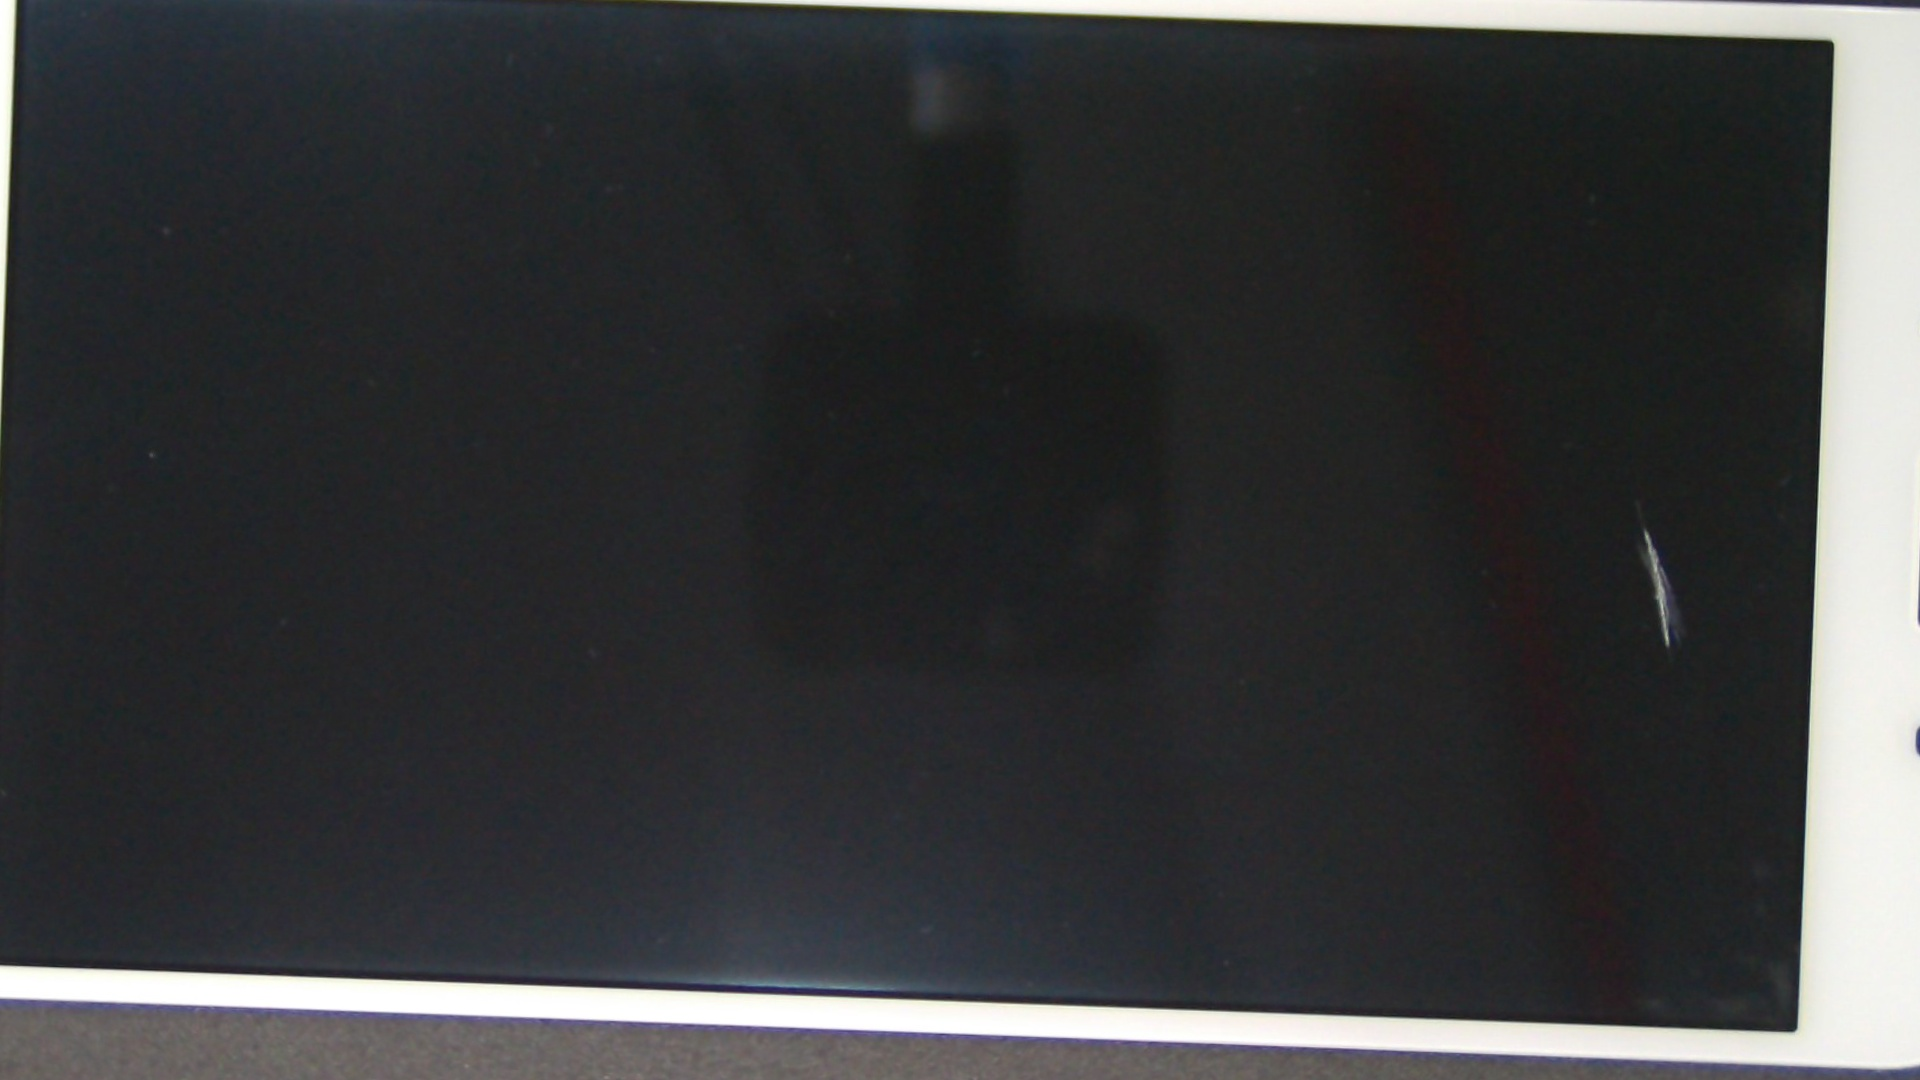oil: (692, 210, 1920, 782)
